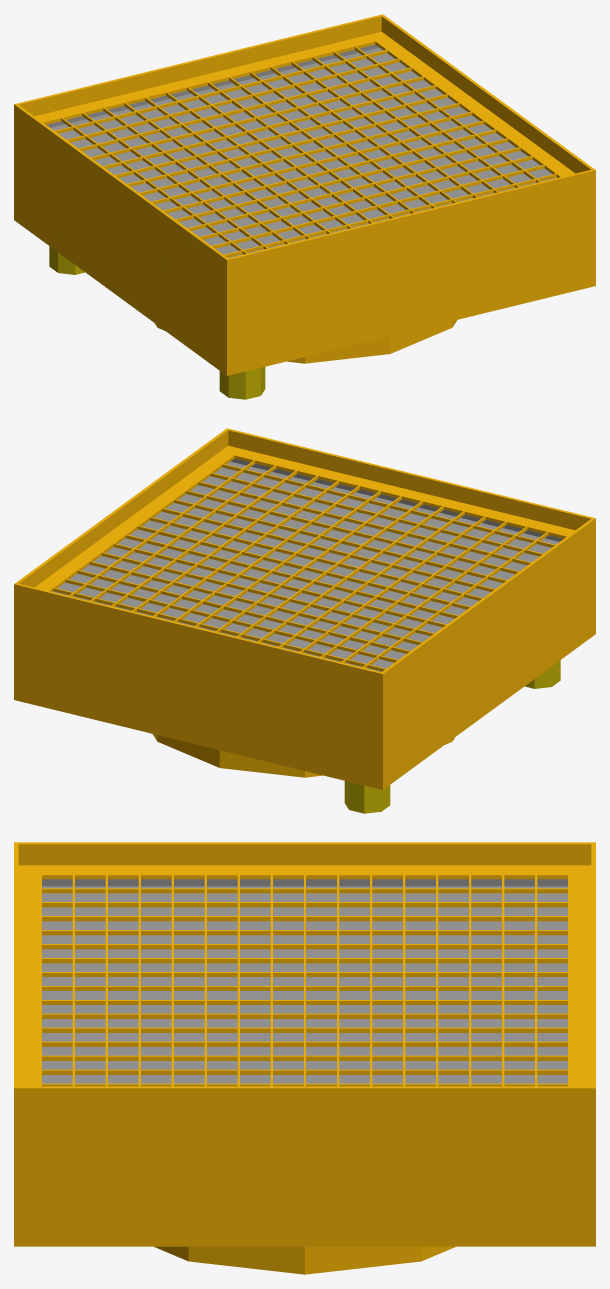
File: fluid_radiator_electric_5x5x2.dae
3 views of the same model, one above another, from view 1: azimuth 30°, elevation 25°; view 2: azimuth 150°, elevation 25°; view 3: azimuth 270°, elevation 25° (orthographic). The views are drawn at different scales.
Visible parts, largest first — view 1: Cube; view 2: Cube; view 3: Cube.
Boxes of the visible parts, x1=… form: Cube: x1=14, y1=14, x2=595, y2=399; Cube: x1=14, y1=428, x2=595, y2=813; Cube: x1=14, y1=842, x2=595, y2=1274.
Size of the model in its own units: 1.25 by 1.25 by 0.5.
